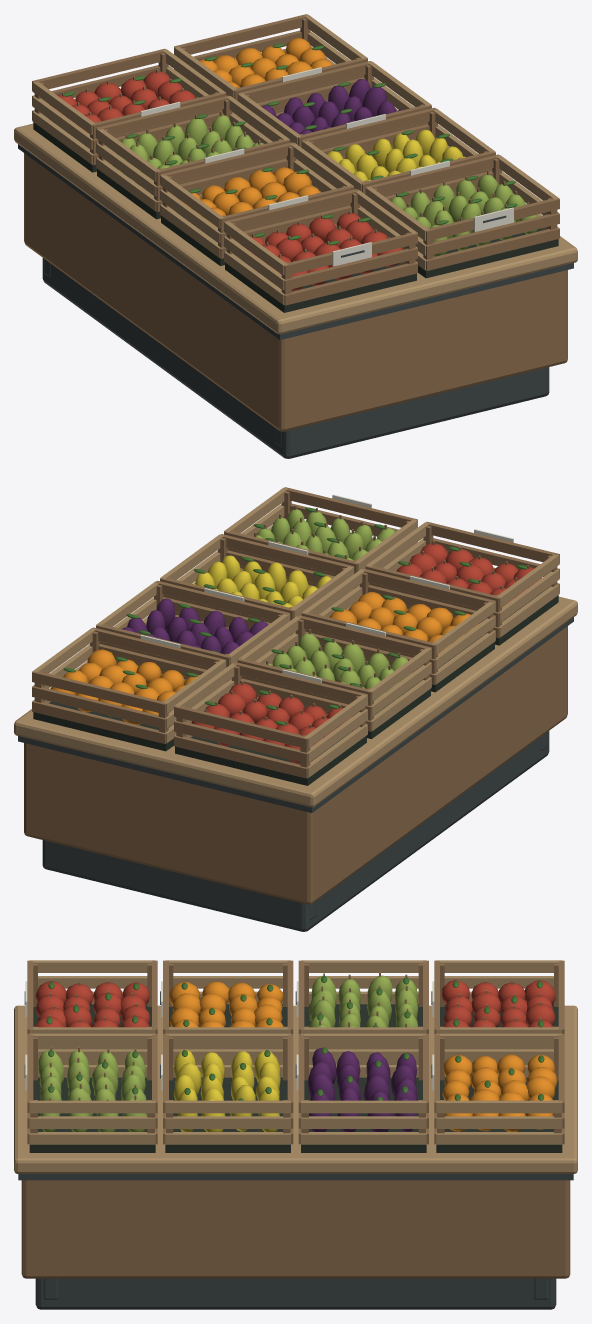
Rendered from produce.glb.
The picture shows the model from 3 angles, top to bottom: view 1: azimuth 30°, elevation 25°; view 2: azimuth 150°, elevation 25°; view 3: azimuth 270°, elevation 25°; orthographic projection. The views are drawn at different scales.
Visible parts, largest first — view 1: produce_fixture_Oiled warm oak, produce_fixture_Crate end grain, produce_fixture_Powder-coated graphite, produce_detail_Conference green, produce_detail_Russet red apples, produce_detail_Citrus ochre, produce_fixture_Crate liner, produce_detail_Aubergine, produce_detail_Lemon yellow, produce_fixture_Ivory shelf label, produce_detail_Leaf green, produce_detail_Oiled warm oak; view 2: produce_fixture_Oiled warm oak, produce_fixture_Crate end grain, produce_fixture_Powder-coated graphite, produce_detail_Russet red apples, produce_detail_Citrus ochre, produce_detail_Conference green, produce_fixture_Crate liner, produce_detail_Aubergine, produce_detail_Lemon yellow, produce_detail_Leaf green, produce_fixture_Ivory shelf label, produce_detail_Oiled warm oak; view 3: produce_fixture_Oiled warm oak, produce_fixture_Crate end grain, produce_fixture_Powder-coated graphite, produce_detail_Citrus ochre, produce_fixture_Crate liner, produce_detail_Russet red apples, produce_detail_Conference green, produce_detail_Aubergine, produce_detail_Lemon yellow, produce_detail_Leaf green, produce_detail_Oiled warm oak, produce_fixture_Ivory shelf label.
Part boxes in pixels (left/top/right/bottom): produce_fixture_Oiled warm oak: left=24, top=14, right=567, bottom=431; produce_fixture_Crate end grain: left=14, top=14, right=577, bottom=334; produce_fixture_Powder-coated graphite: left=18, top=144, right=573, bottom=458; produce_detail_Conference green: left=116, top=115, right=537, bottom=256; produce_detail_Russet red apples: left=49, top=71, right=402, bottom=290; produce_detail_Citrus ochre: left=178, top=38, right=332, bottom=227; produce_fixture_Crate liner: left=33, top=119, right=558, bottom=312; produce_detail_Aubergine: left=262, top=79, right=405, bottom=134; produce_detail_Lemon yellow: left=327, top=129, right=465, bottom=189; produce_fixture_Ivory shelf label: left=140, top=67, right=513, bottom=266; produce_detail_Leaf green: left=63, top=43, right=517, bottom=245; produce_detail_Oiled warm oak: left=62, top=69, right=529, bottom=261; produce_fixture_Oiled warm oak: left=24, top=487, right=567, bottom=904; produce_fixture_Crate end grain: left=14, top=487, right=577, bottom=807; produce_fixture_Powder-coated graphite: left=18, top=617, right=573, bottom=931; produce_detail_Russet red apples: left=191, top=543, right=541, bottom=763; produce_detail_Citrus ochre: left=51, top=592, right=478, bottom=724; produce_detail_Conference green: left=253, top=509, right=409, bottom=711; produce_fixture_Crate liner: left=33, top=592, right=558, bottom=785; produce_detail_Aubergine: left=122, top=598, right=267, bottom=662; produce_detail_Lemon yellow: left=192, top=555, right=331, bottom=607; produce_detail_Leaf green: left=63, top=507, right=527, bottom=725; produce_fixture_Ivory shelf label: left=140, top=494, right=513, bottom=682; produce_detail_Oiled warm oak: left=204, top=505, right=529, bottom=734; produce_fixture_Oiled warm oak: left=21, top=960, right=570, bottom=1278; produce_fixture_Crate end grain: left=14, top=960, right=577, bottom=1173; produce_fixture_Powder-coated graphite: left=18, top=991, right=573, bottom=1309; produce_detail_Citrus ochre: left=169, top=981, right=557, bottom=1131; produce_fixture_Crate liner: left=29, top=1004, right=562, bottom=1152; produce_detail_Russet red apples: left=35, top=980, right=555, bottom=1027; produce_detail_Conference green: left=38, top=975, right=418, bottom=1131; produce_detail_Aubergine: left=308, top=1048, right=417, bottom=1131; produce_detail_Lemon yellow: left=173, top=1049, right=280, bottom=1131; produce_detail_Leaf green: left=46, top=976, right=544, bottom=1100; produce_detail_Oiled warm oak: left=48, top=971, right=541, bottom=1100; produce_fixture_Ivory shelf label: left=25, top=981, right=434, bottom=1090.
Bounding box in the file's own units: 1.7 × 1.09 × 2.6.
